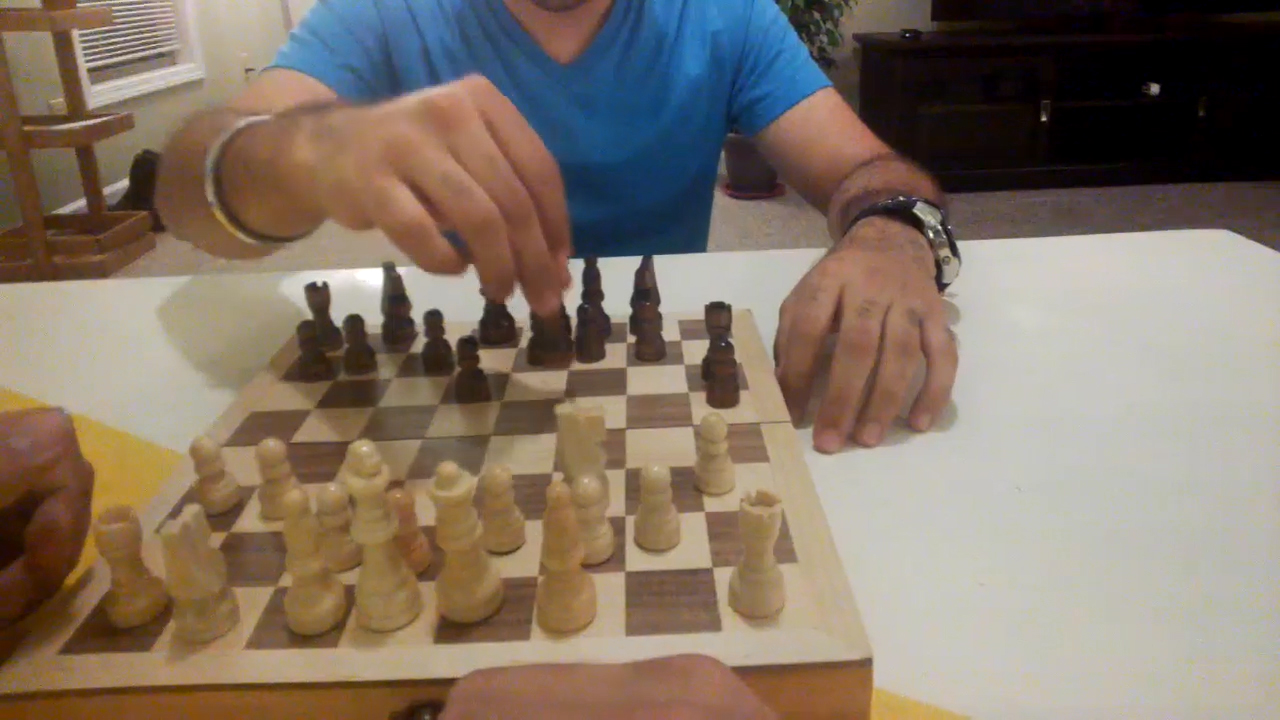hand: (311, 78, 570, 313), (779, 246, 957, 444), (5, 410, 98, 633), (439, 657, 776, 718)
